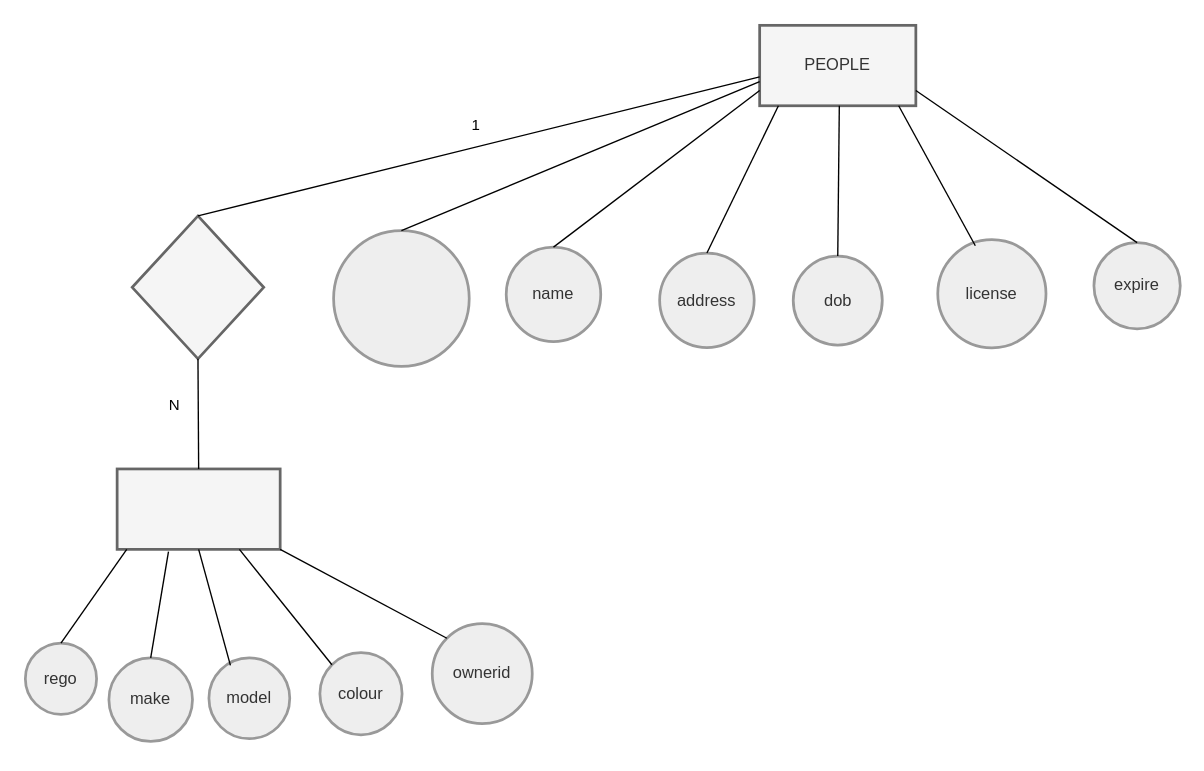
This 1204x771 diagram has some shape labels left out. The shapes that lost their labels are listed below. From the top down, each one's box as (x1, y1, x2, y2) in pixels, then its label:
(130, 214, 264, 359): OWNS
(332, 229, 470, 367): personid
(115, 467, 281, 550): VEHICLE
